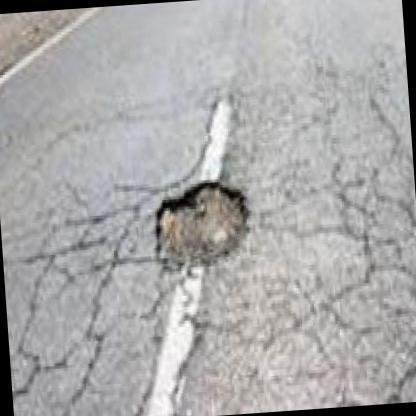pothole: (156, 175, 250, 273)
